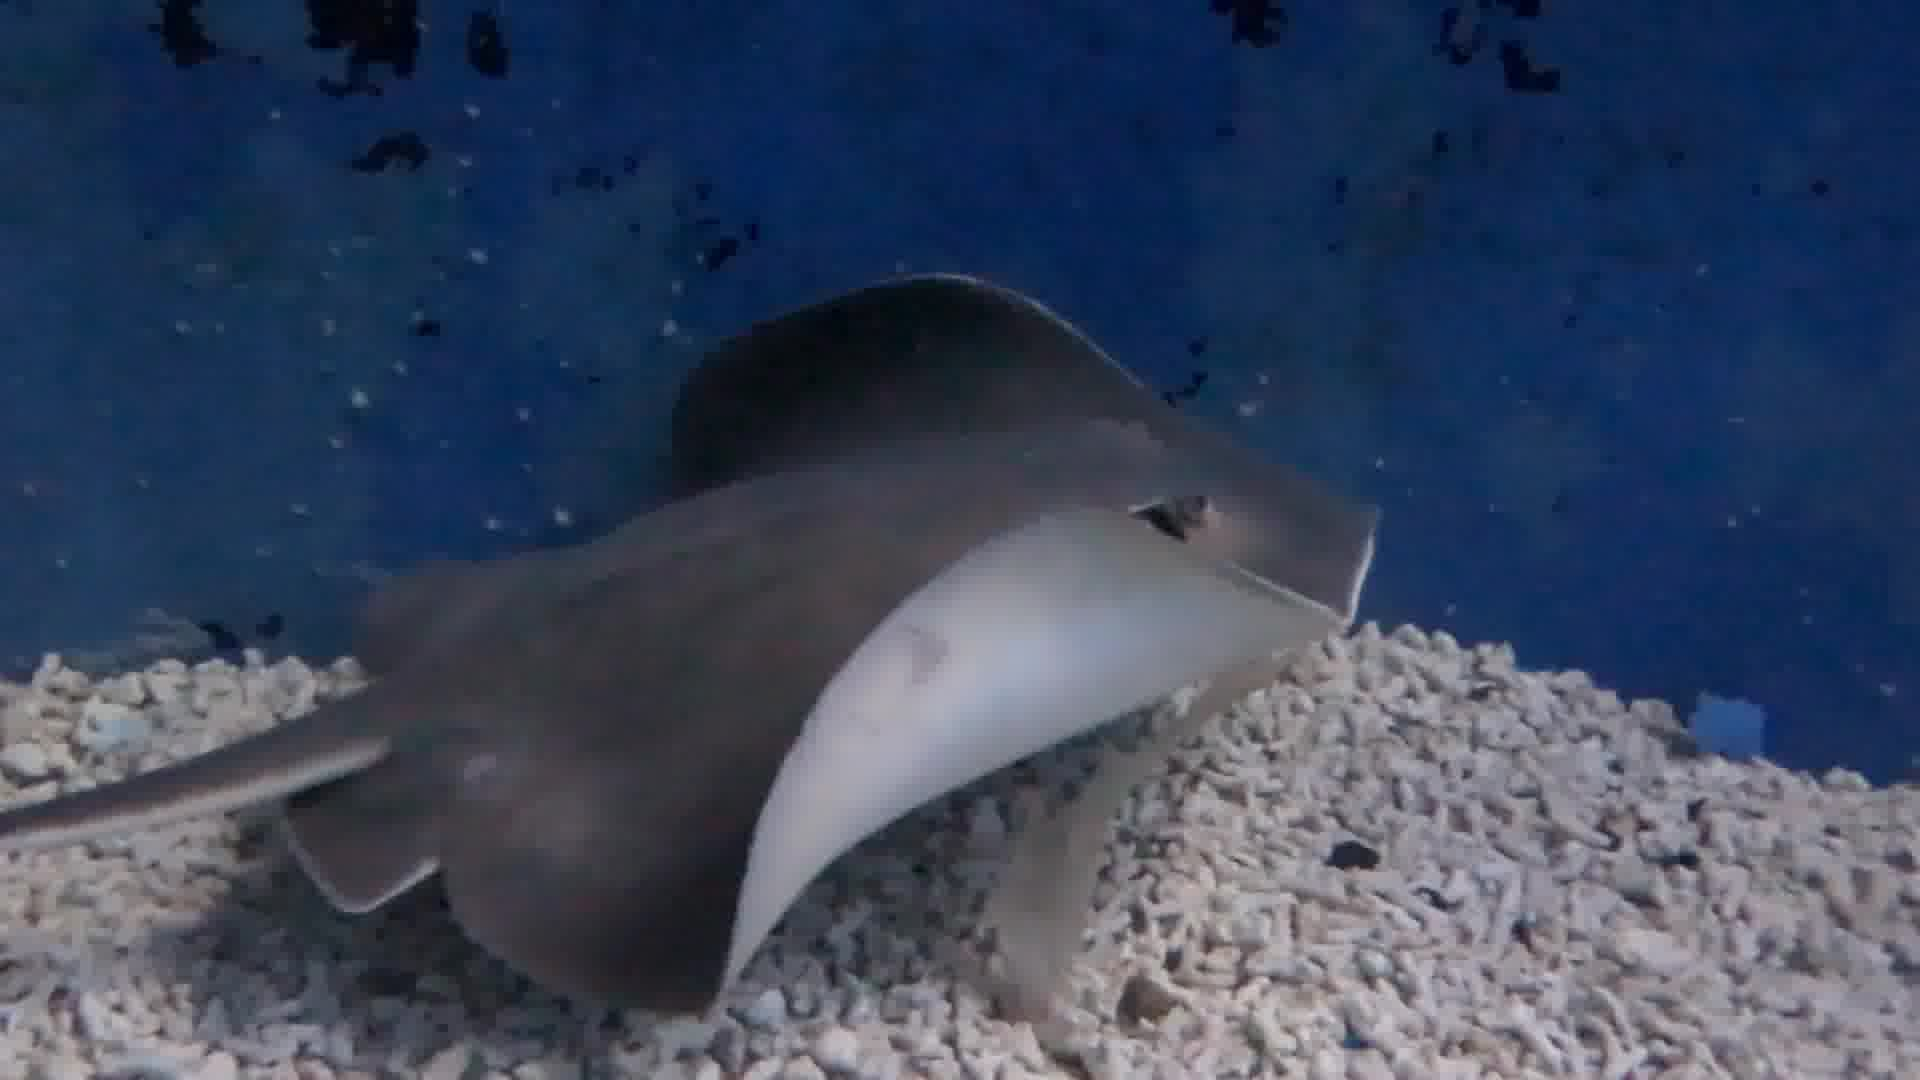Dasyatis bennetti: (248, 178, 1495, 1019)
